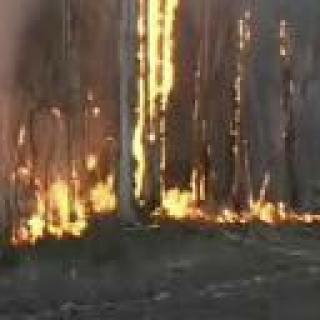fire: (2, 119, 115, 247), (137, 0, 184, 217), (201, 172, 320, 228), (228, 15, 260, 151), (279, 29, 292, 65)
